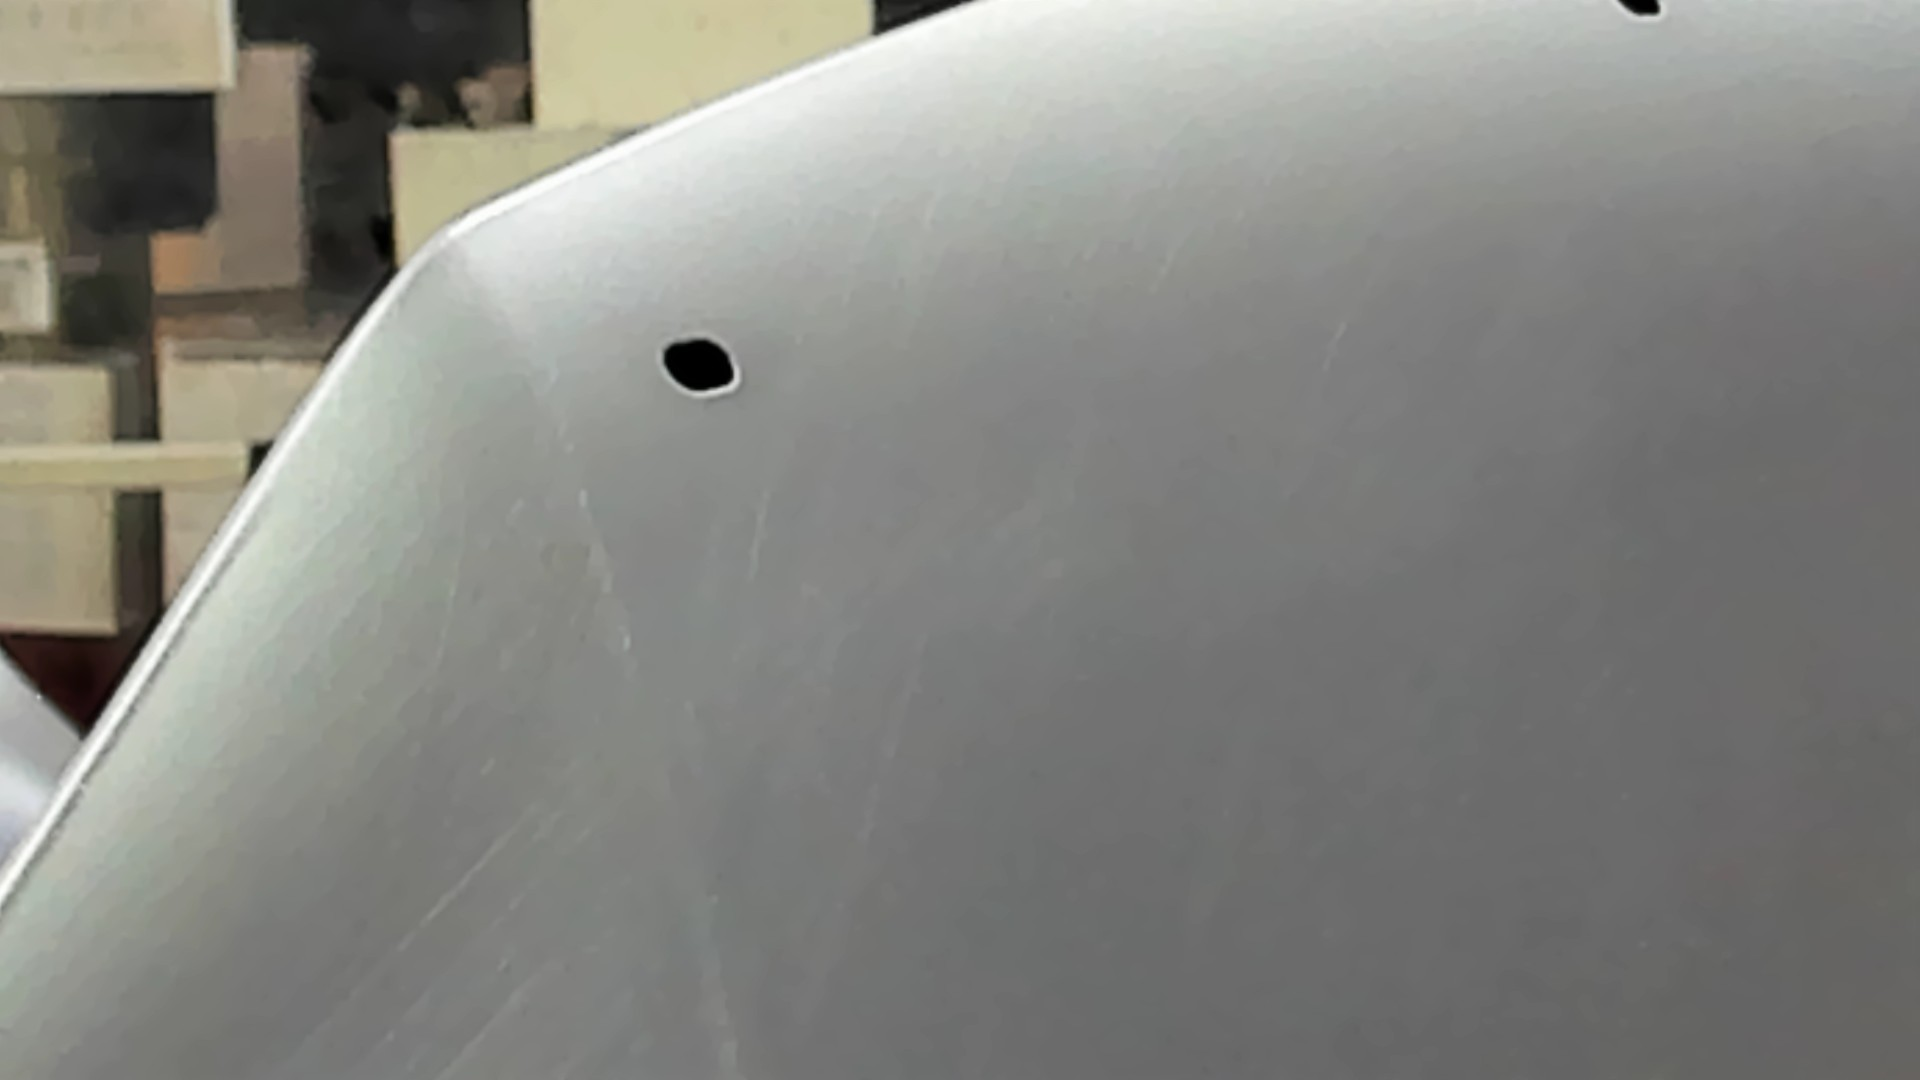amorfo: (654, 328, 745, 401), (1613, 1, 1668, 22)
